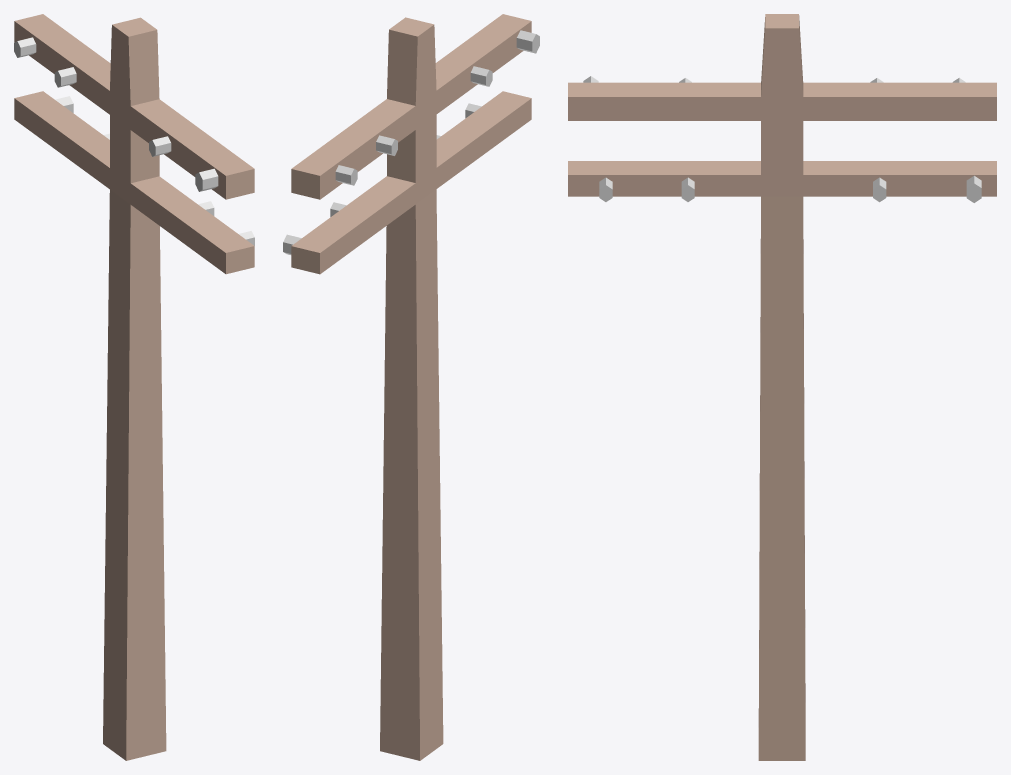
The model's file is TransmissionPole.fbx.
3 renders of one model, left to right at view 1: azimuth 30°, elevation 25°; view 2: azimuth 150°, elevation 25°; view 3: azimuth 270°, elevation 25°, orthographic.
Parts seen in each view (by area): view 1: Transmission Pole; view 2: Transmission Pole; view 3: Transmission Pole.
Boxes of the visible parts, bbox=[...] form: Transmission Pole: bbox=[14, 14, 254, 760]; Transmission Pole: bbox=[283, 14, 539, 760]; Transmission Pole: bbox=[568, 14, 996, 760].
Size of the model in its own units: 0.4622 by 5.3 by 2.82.
